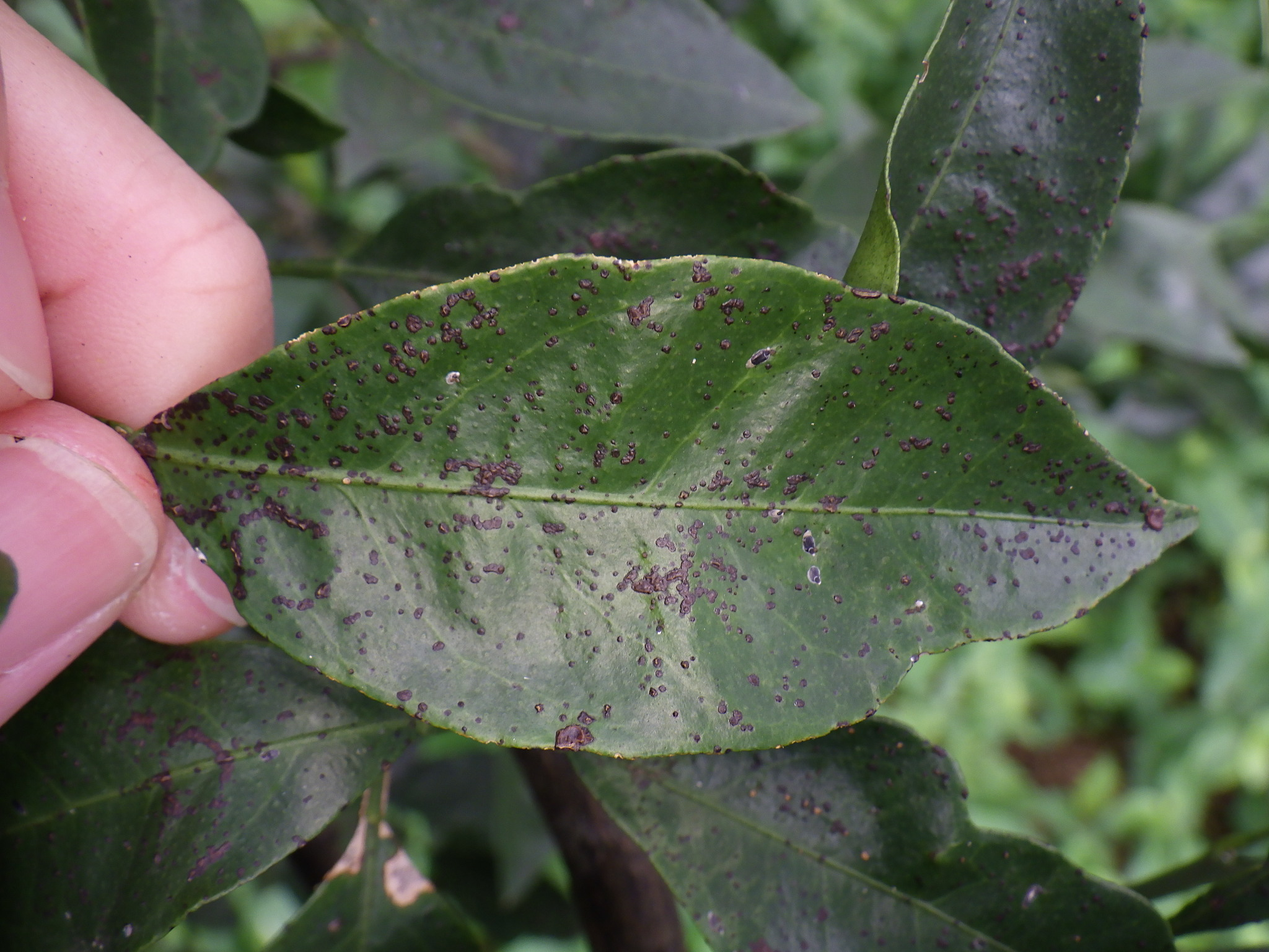Black_Spot: (147, 252, 1196, 757)
